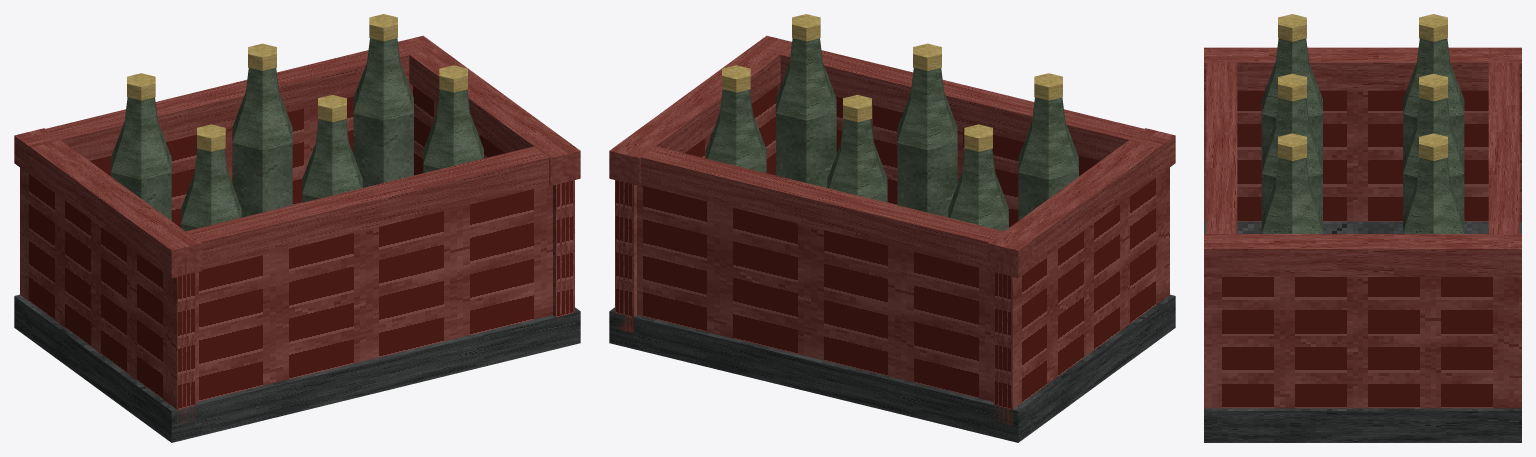
The model's file is crate.glb.
The picture shows the model from 3 angles, left to right: view 1: azimuth 30°, elevation 25°; view 2: azimuth 150°, elevation 25°; view 3: azimuth 270°, elevation 25°; orthographic projection.
Parts seen in each view (by area): view 1: Body; view 2: Body; view 3: Body.
Boxes of the visible parts, bbox=[...] form: Body: bbox=[14, 14, 580, 442]; Body: bbox=[609, 14, 1175, 442]; Body: bbox=[1204, 14, 1521, 442].
Size of the model in its own units: 0.54 by 0.327 by 0.36.
Materials: 1 (1 with a texture image).
